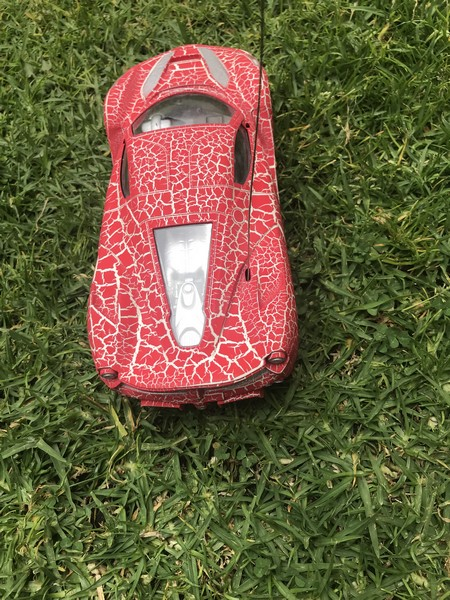RC: (84, 42, 302, 415)
